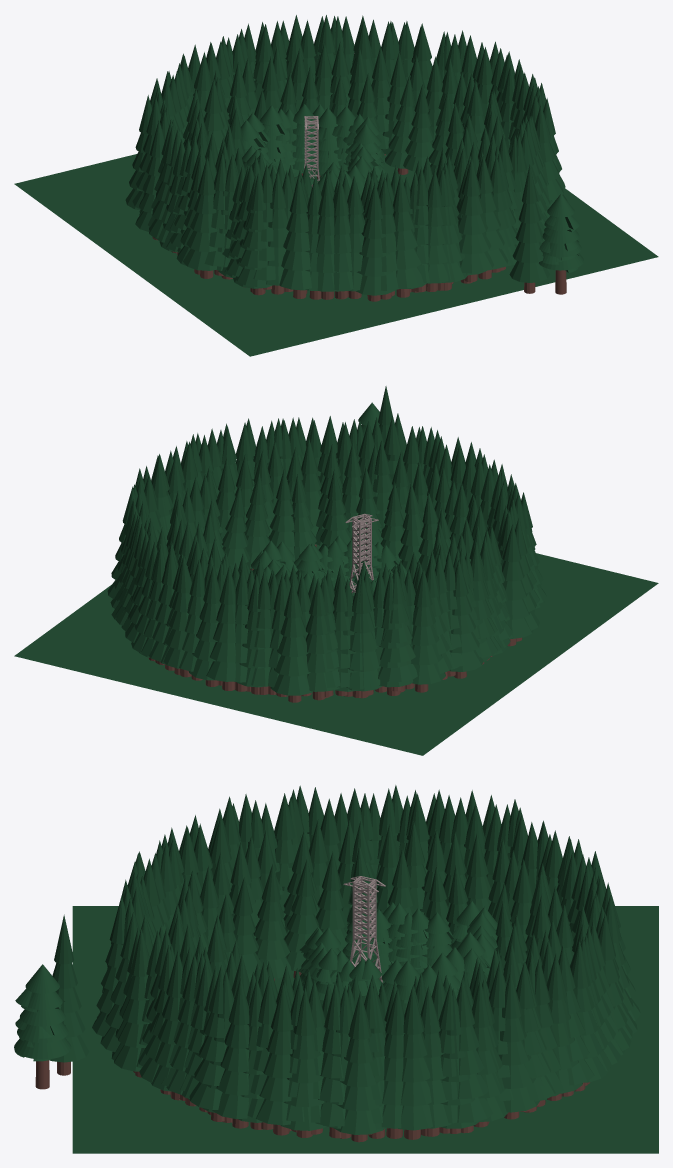
Rendered from background.glb.
3 renders of one model, top to bottom at view 1: azimuth 30°, elevation 25°; view 2: azimuth 150°, elevation 25°; view 3: azimuth 270°, elevation 25°, orthographic. The views are drawn at different scales.
Parts seen in each view (by area): view 1: LODtree.003, Floor, LODtree.002, LODtree.001, Cylinder.003, Cylinder.001, LODtree, Cylinder.002, Pylon top; view 2: LODtree.003, Floor, LODtree.002, LODtree.001, Cylinder.002, Cylinder.003, Pylon top; view 3: LODtree.003, Floor, LODtree.002, LODtree.001, Cylinder.003, Cylinder, Cylinder.001, Cylinder.002, LODtree, Pylon top, Pylon base.
Boxes of the visible parts, x1=… form: LODtree.003: x1=125, y1=15, x2=567, y2=301; Floor: x1=14, y1=154, x2=658, y2=356; LODtree.002: x1=183, y1=41, x2=508, y2=216; LODtree.001: x1=224, y1=66, x2=478, y2=198; Cylinder.003: x1=241, y1=104, x2=386, y2=183; Cylinder.001: x1=539, y1=194, x2=583, y2=294; LODtree: x1=509, y1=164, x2=549, y2=293; Cylinder.002: x1=318, y1=143, x2=378, y2=197; Pylon top: x1=304, y1=116, x2=318, y2=169; LODtree.003: x1=107, y1=413, x2=546, y2=702; Floor: x1=14, y1=544, x2=658, y2=755; LODtree.002: x1=166, y1=438, x2=486, y2=611; LODtree.001: x1=196, y1=467, x2=450, y2=589; Cylinder.002: x1=294, y1=535, x2=399, y2=598; Cylinder.003: x1=251, y1=541, x2=312, y2=593; Pylon top: x1=345, y1=513, x2=378, y2=568; LODtree.003: x1=92, y1=785, x2=640, y2=1142; Floor: x1=72, y1=906, x2=658, y2=1153; LODtree.002: x1=168, y1=819, x2=573, y2=1035; LODtree.001: x1=207, y1=845, x2=527, y2=1024; Cylinder.003: x1=379, y1=901, x2=497, y2=1013; Cylinder: x1=342, y1=901, x2=454, y2=979; Cylinder.001: x1=14, y1=964, x2=71, y2=1089; Cylinder.002: x1=298, y1=927, x2=382, y2=1006; LODtree: x1=49, y1=914, x2=89, y2=1075; Pylon top: x1=343, y1=876, x2=385, y2=944; Pylon base: x1=350, y1=935, x2=382, y2=982.
Size of the model in its own units: 82.98 by 26.43 by 91.27.
